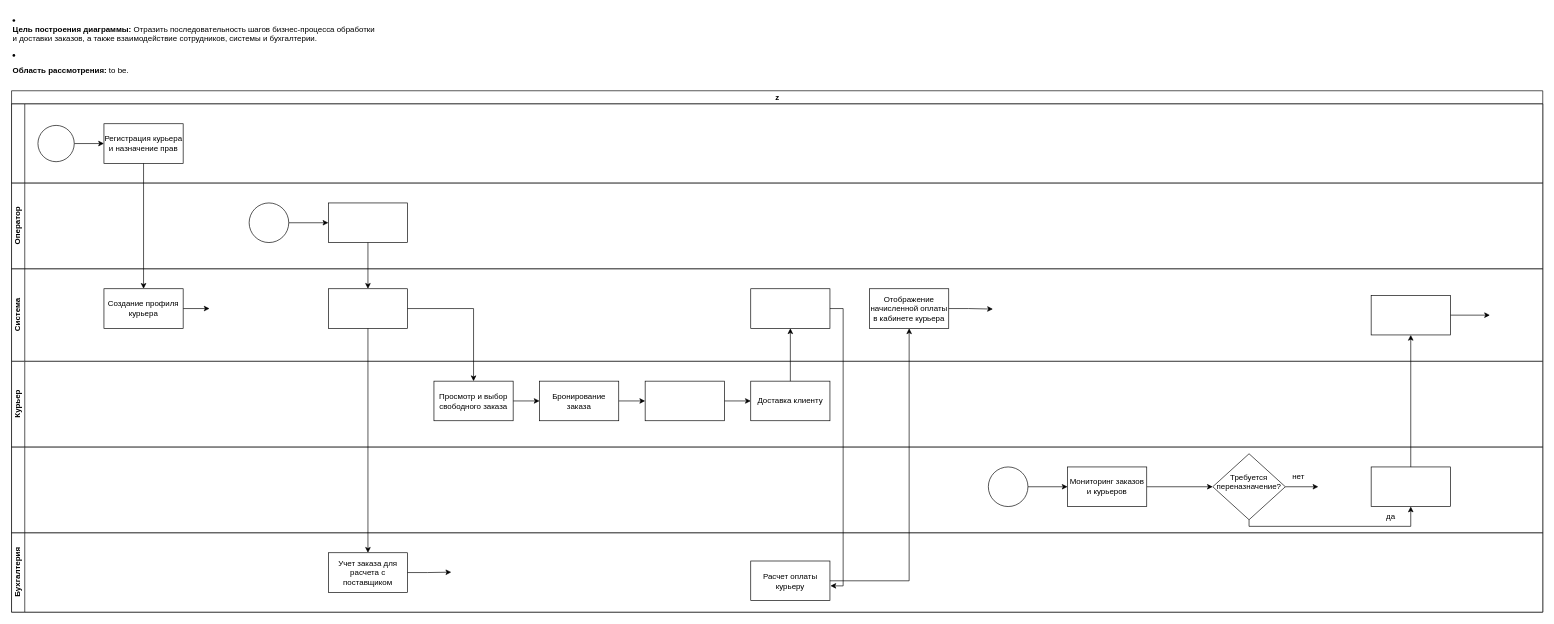
This 1554x624 diagram has some shape labels left out. The box of each missing label's shape, as (x1, y1, x2, y2) in pixels:
Администратор: (11, 103, 1543, 183)
Ввод информации о заказе: (328, 202, 408, 243)
Диспетчер: (11, 446, 1543, 533)
Забор в точке выдачи: (644, 380, 724, 421)
Обновление данных заказа (Смена курьера): (1370, 295, 1450, 335)
Обновление статуса (Доставлен): (750, 288, 830, 328)
Переназначение заказа: (1370, 466, 1450, 507)
Регистрация нового заказа: (328, 288, 408, 328)
